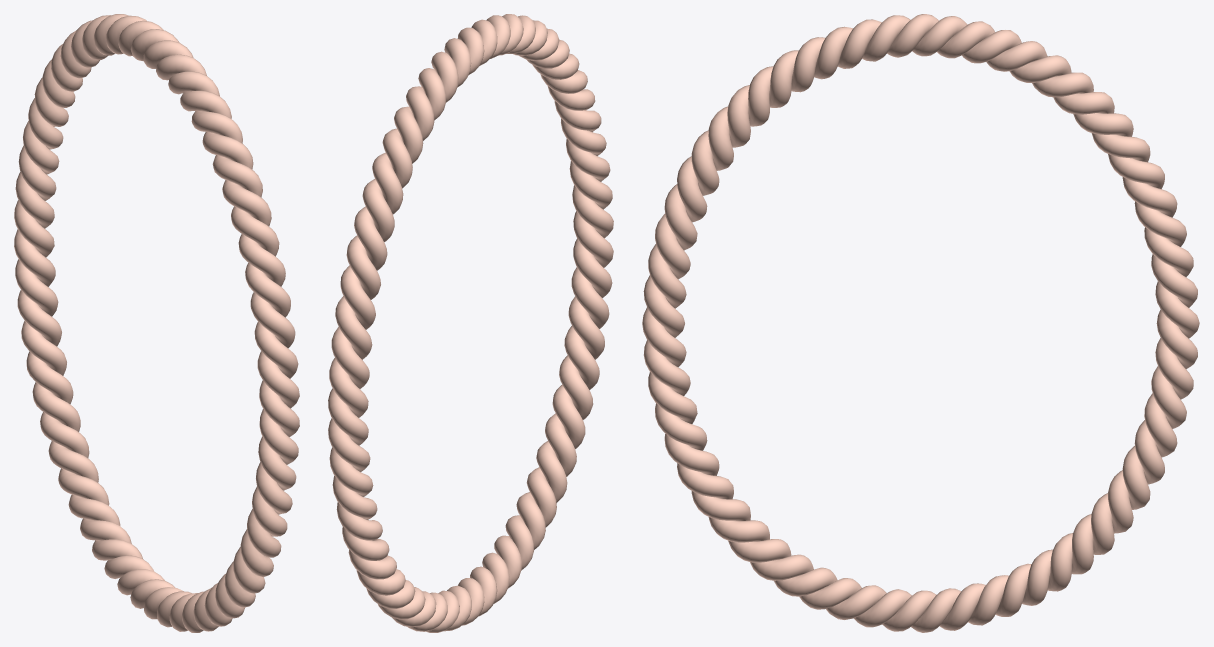
File: juvia-bracelet.glb
3 views of the same model, side by side, from view 1: azimuth 30°, elevation 25°; view 2: azimuth 150°, elevation 25°; view 3: azimuth 270°, elevation 25° (orthographic). The views are drawn at different scales.
Parts seen in each view (by area): view 1: Bracelet; view 2: Bracelet; view 3: Bracelet.
Boxes of the visible parts, x1,y1,x2,y2 form: Bracelet: (14,14,299,632); Bracelet: (328,14,613,632); Bracelet: (642,14,1199,632).
Size of the model in its own units: 0.0046 by 0.0726 by 0.0596.
